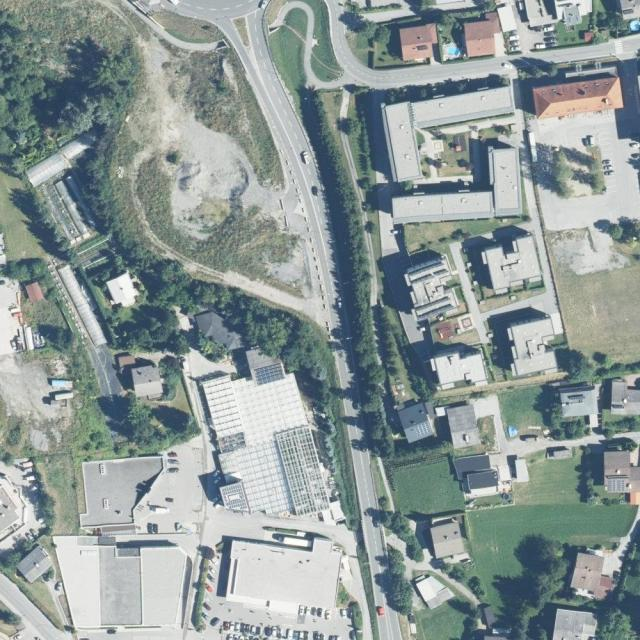building: (200, 361, 331, 529), (381, 85, 523, 184), (54, 535, 191, 629), (226, 531, 342, 616), (131, 436, 206, 534), (78, 456, 164, 528), (478, 223, 544, 296), (399, 246, 462, 322), (411, 85, 516, 130), (24, 129, 101, 190), (56, 263, 109, 349), (532, 75, 624, 121), (392, 190, 494, 224), (190, 303, 247, 360), (428, 340, 488, 394), (507, 316, 559, 378), (569, 551, 620, 603), (487, 146, 523, 217), (411, 566, 455, 612), (463, 12, 506, 59), (568, 552, 607, 600), (245, 342, 286, 387), (559, 384, 599, 430), (398, 23, 441, 63), (397, 400, 436, 444), (24, 151, 69, 188), (15, 544, 55, 584), (104, 271, 141, 311), (553, 608, 598, 640), (130, 363, 165, 403), (429, 521, 465, 559), (452, 449, 492, 481), (611, 379, 640, 415), (446, 403, 478, 433), (554, 0, 593, 20), (450, 427, 480, 450), (496, 3, 518, 33), (477, 601, 498, 630), (464, 485, 500, 500), (562, 4, 583, 27), (25, 282, 44, 303), (115, 353, 137, 369)
dryland: (86, 26, 361, 296), (0, 339, 74, 444), (548, 222, 629, 279), (146, 6, 226, 51), (0, 277, 46, 355)
greenland: (296, 83, 411, 459), (46, 123, 197, 329), (172, 267, 348, 388), (302, 379, 374, 534), (88, 385, 204, 467), (362, 300, 438, 412), (5, 177, 83, 279), (387, 457, 466, 525), (402, 211, 525, 253), (339, 4, 402, 74), (18, 289, 78, 359), (74, 261, 127, 340), (327, 417, 363, 532), (295, 0, 344, 84), (367, 543, 420, 620), (429, 541, 497, 601), (296, 0, 344, 84), (267, 8, 308, 100), (514, 456, 581, 505), (62, 399, 113, 459), (114, 304, 180, 350), (383, 508, 432, 566), (60, 342, 102, 403), (420, 596, 478, 640), (350, 91, 373, 191), (497, 385, 545, 431), (24, 479, 64, 532), (570, 445, 600, 506), (338, 87, 370, 140), (188, 331, 230, 367), (550, 405, 590, 442), (3, 256, 50, 287), (595, 0, 627, 37), (600, 413, 640, 440), (599, 609, 631, 639), (164, 330, 194, 361), (446, 593, 479, 619), (556, 20, 584, 47), (441, 9, 484, 20)
metalled_road: (304, 0, 515, 133), (331, 348, 403, 640), (203, 507, 360, 559), (262, 0, 341, 103), (114, 0, 225, 65), (414, 558, 485, 605), (174, 0, 260, 22), (362, 5, 416, 26), (383, 531, 411, 554), (422, 548, 433, 564)
